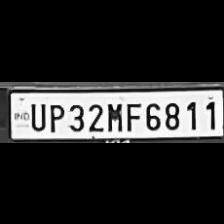1: (182, 98, 200, 130), (200, 97, 218, 128)
2: (84, 98, 104, 132)
3: (65, 99, 84, 130)
6: (141, 99, 161, 131)
8: (161, 98, 181, 130)
F: (122, 99, 140, 131)
M: (104, 98, 122, 132)
P: (46, 100, 64, 132)
U: (26, 98, 46, 130)
